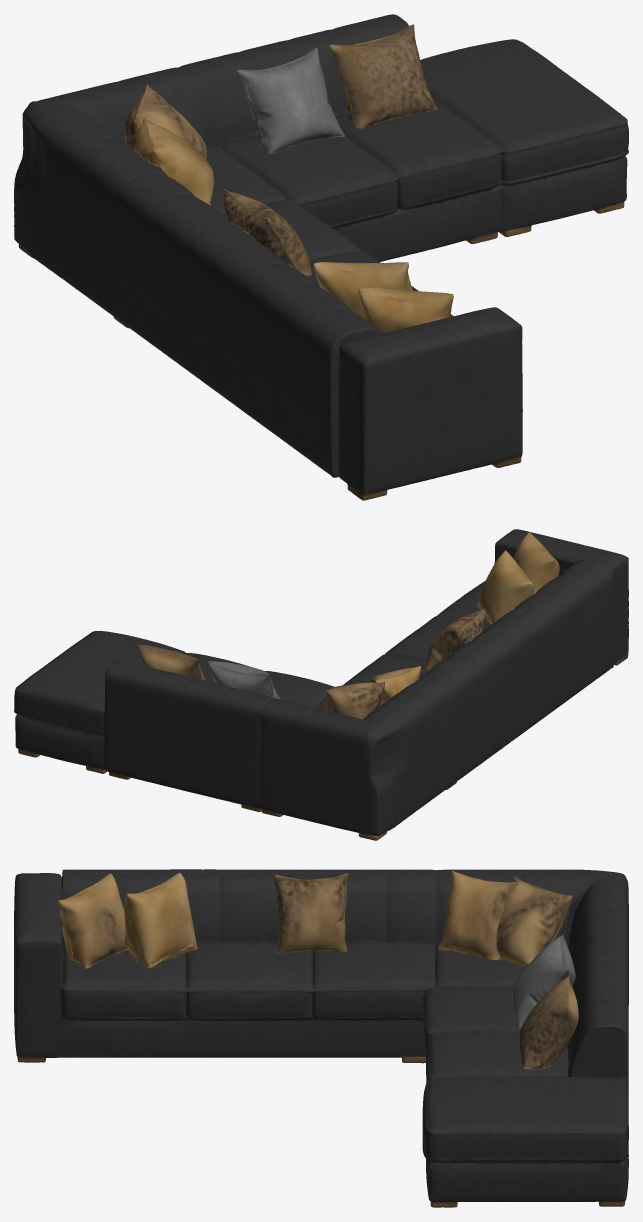
Rendered from contemporary_l_shaped_sectional_sofa_0lqjw8.glb.
3 views of the same model, one above another, from view 1: azimuth 30°, elevation 25°; view 2: azimuth 150°, elevation 25°; view 3: azimuth 270°, elevation 25° (orthographic). The views are drawn at different scales.
Visible parts, largest first — view 1: world; view 2: world; view 3: world.
Boxes of the visible parts, box(x1,y1,x2,y2) form: world: box(14, 14, 628, 500); world: box(14, 529, 628, 840); world: box(14, 869, 628, 1207).
Size of the model in its own units: 0.8368 by 0.2624 by 0.9949.
1 material, 1 textured.
